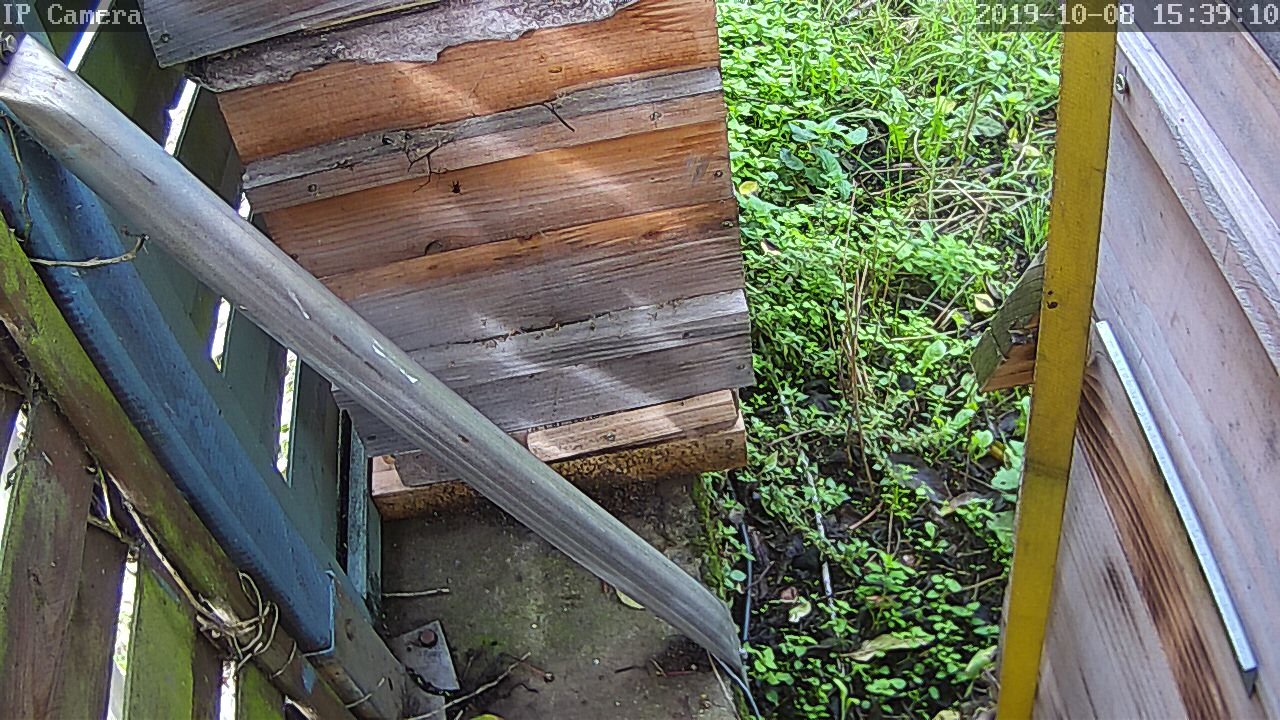hornet: (830, 442, 871, 494)
